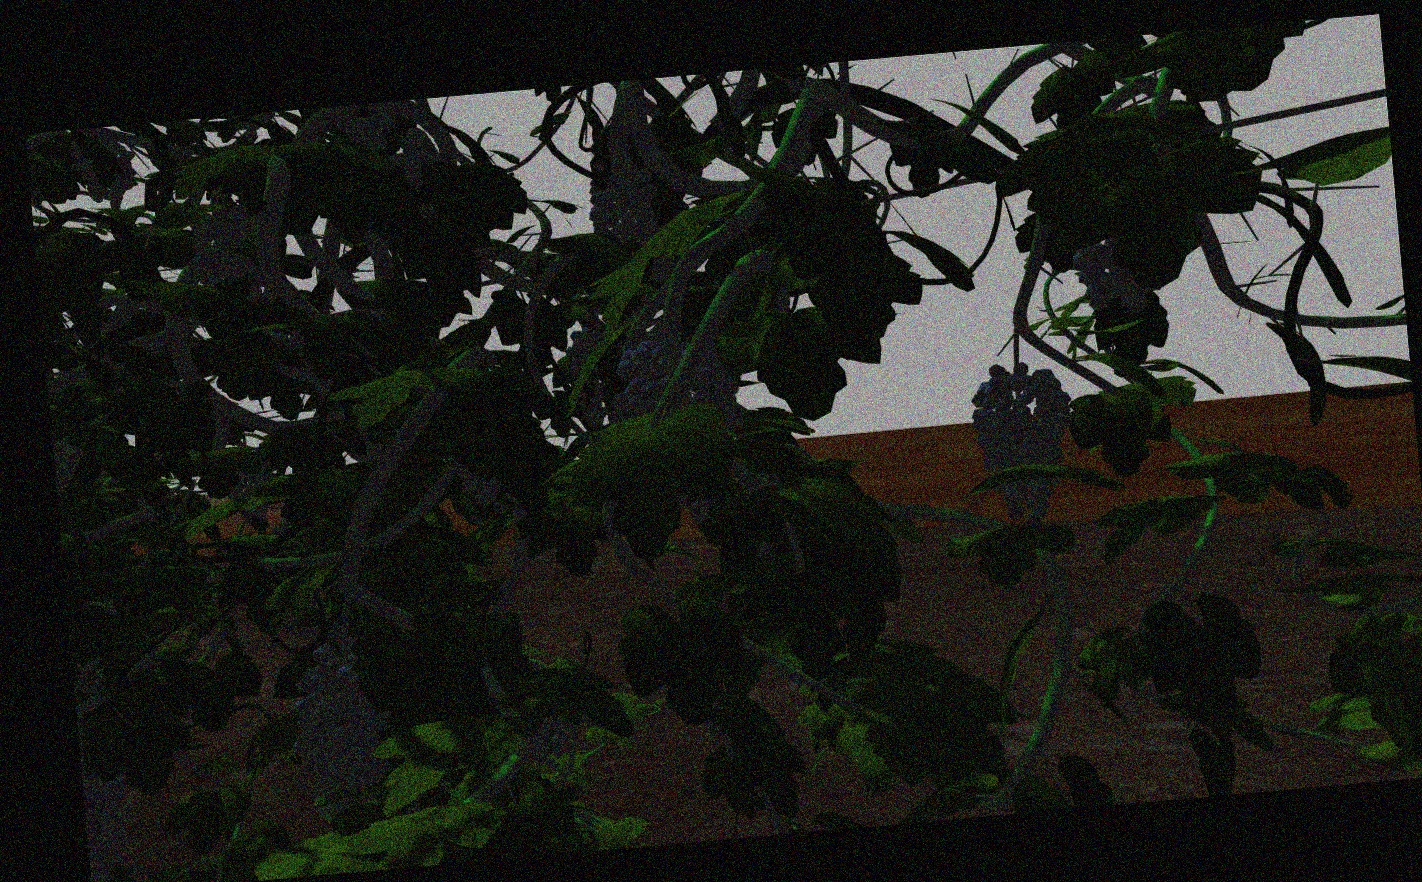grape: (973, 358, 1077, 530), (297, 639, 390, 810), (609, 330, 740, 417), (1074, 228, 1153, 315), (585, 161, 658, 244)
